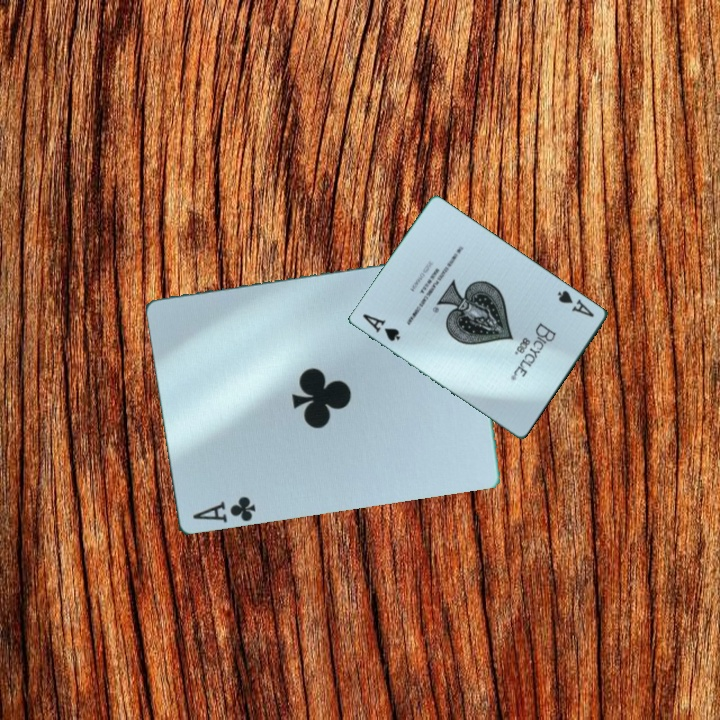Ac: (189, 493, 259, 527)
As: (554, 286, 598, 320), (359, 310, 403, 344)
